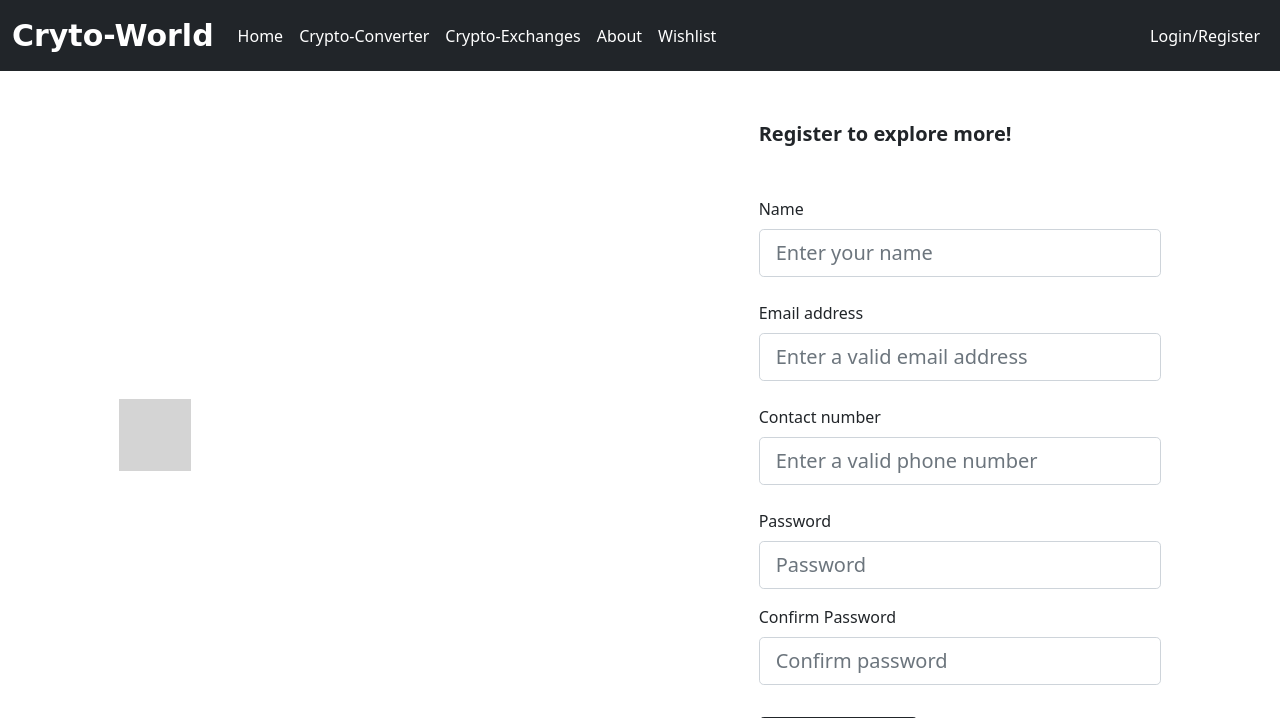
Crypto World e2e testing › Create new user with wrong contact
Type "Tarun Shekher" into the field with id "registername" at (961, 253), box [759,229,1162,277]
Type "tarun919@gmail.com" into the field with id "registeremail" at (961, 357), box [759,333,1162,381]
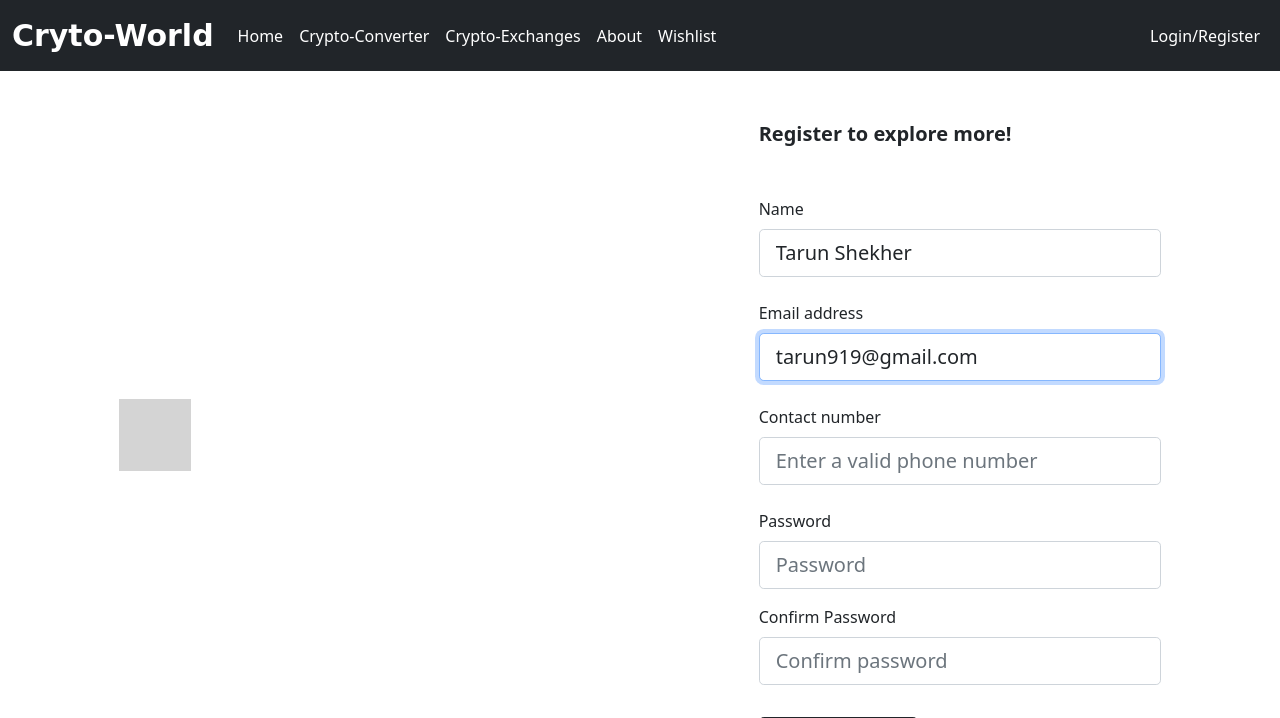
Type "735596258" into the number field with id "registercontact" at (961, 461), box [759,437,1162,485]
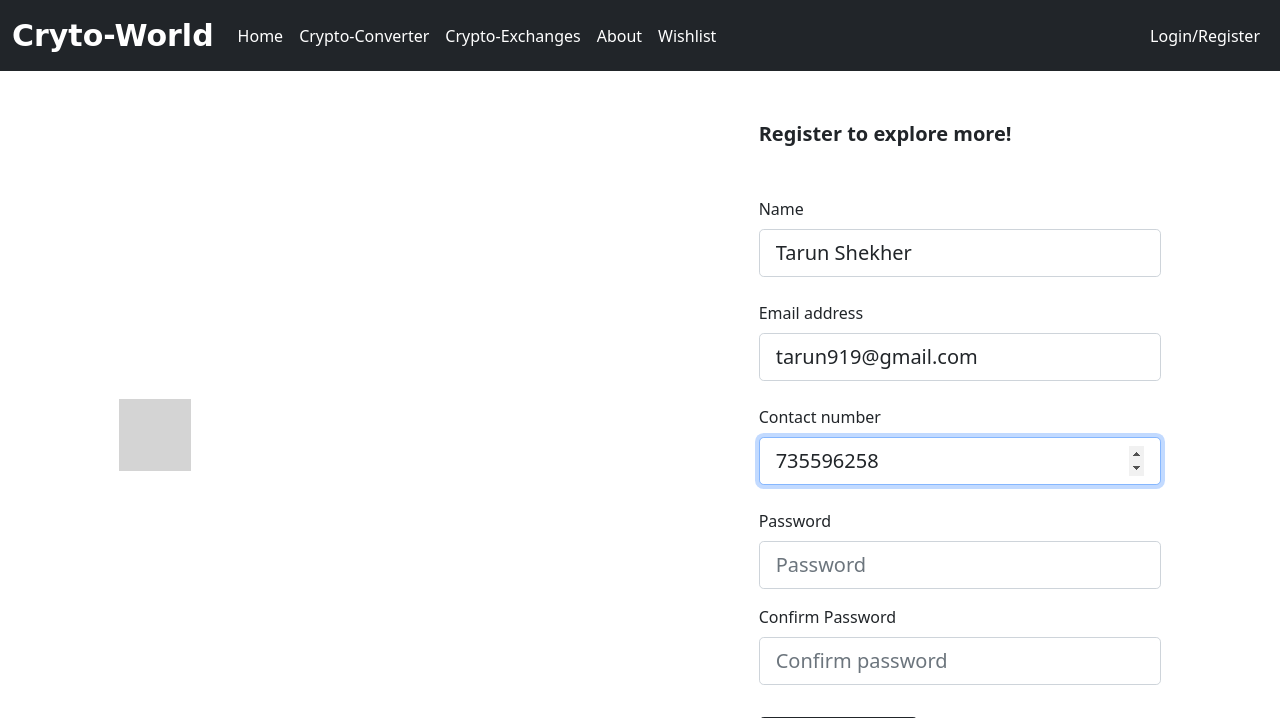
Type "123456" into the password field with id "registerpassword" at (961, 565), box [759,541,1162,589]
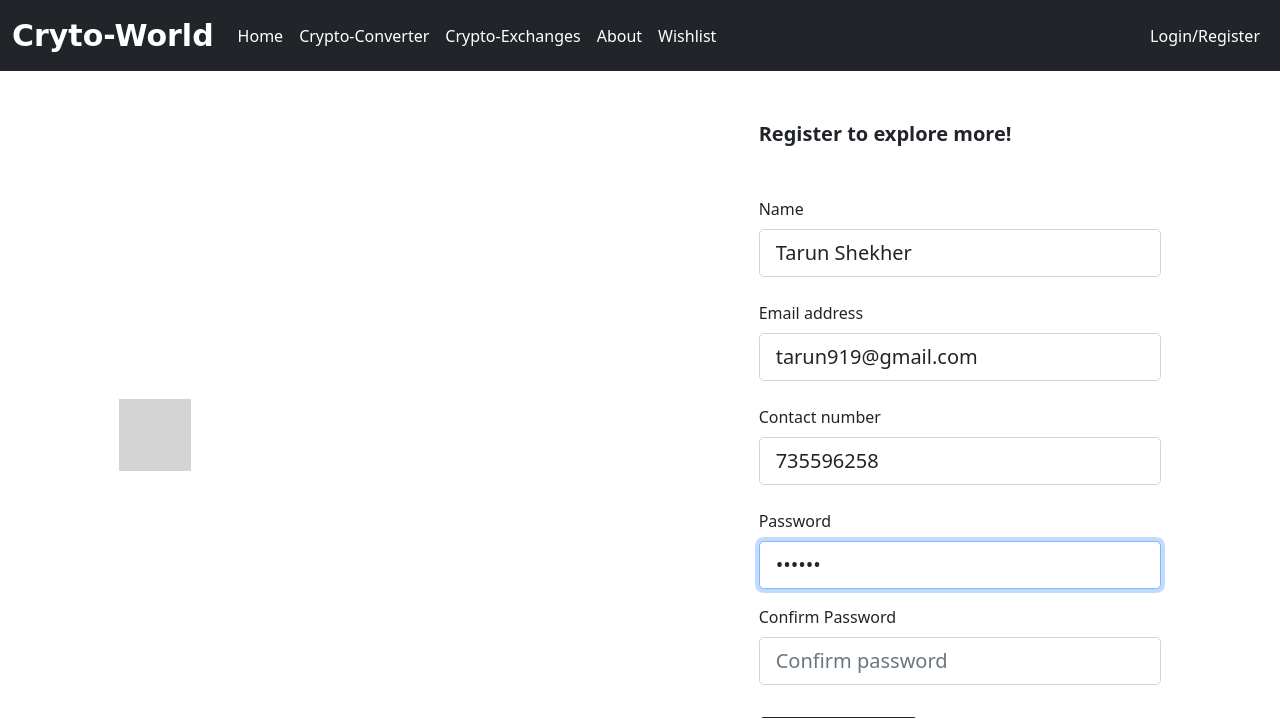
Type "123456" into the password field with id "registerconfirmpassword" at (961, 661), box [759,637,1162,685]
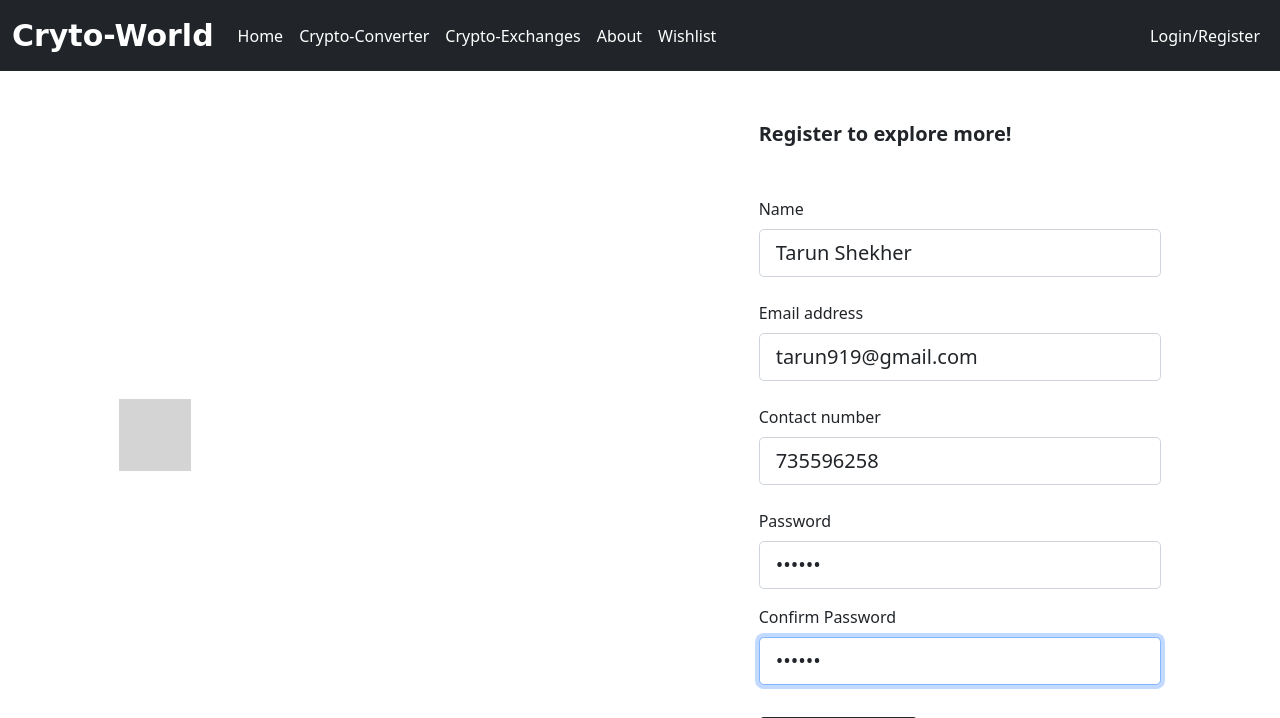
Scroll
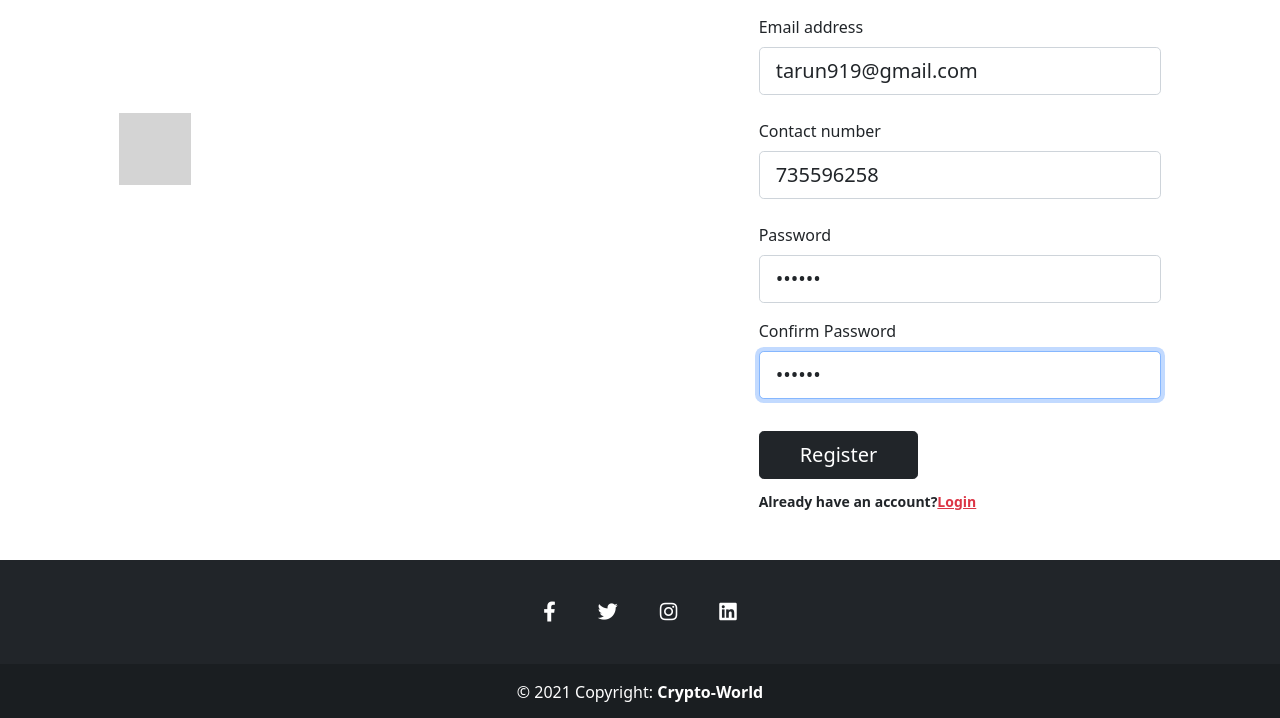
Click the button with id "registerbtn" at (839, 455), box [759,431,919,479]
(page scrolled)
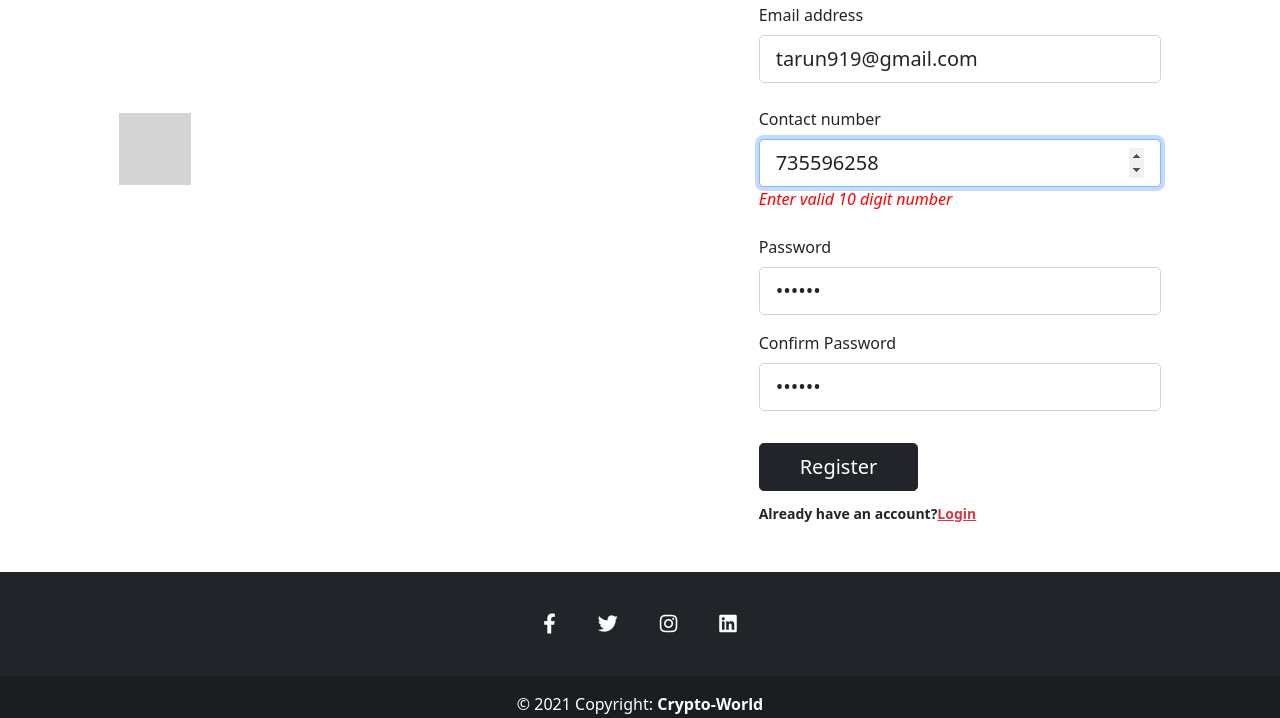
Now the text "Enter valid 10 digit number" is shown, box [759,188,952,210]
